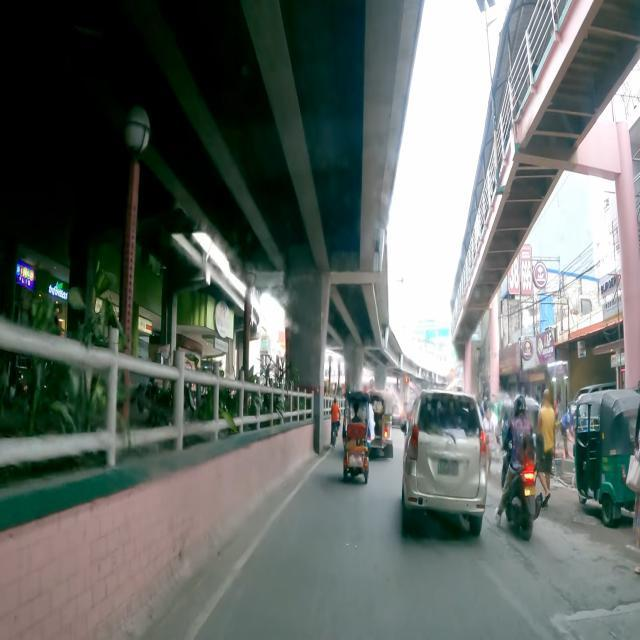bike: (330, 396, 341, 453)
car: (402, 389, 487, 540)
jeepney: (361, 390, 394, 458)
motorcycle: (495, 394, 543, 538)
tricycle: (573, 388, 640, 528), (341, 388, 371, 486)
